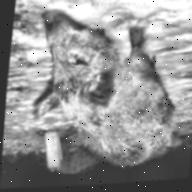boar: (14, 0, 192, 182)
